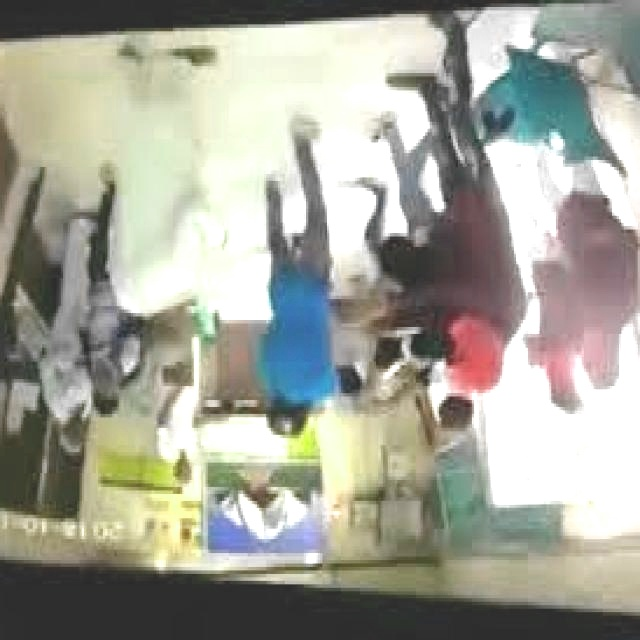gun: (337, 289, 392, 334)
